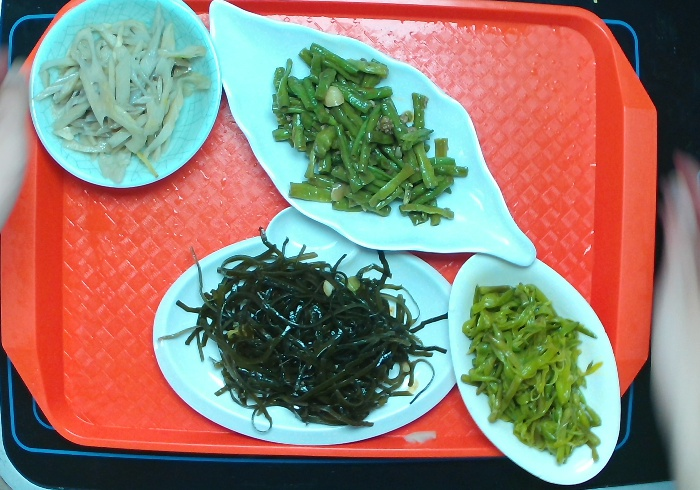RJxy-Bai_Se_Tuo_Yuan: (447, 251, 623, 487)
RJxy-Shu_Ye_Pan: (207, 1, 538, 269)
RJxy-Xiao_Jiao_Yuan_Wan: (26, 1, 223, 189)
RJxy-Zhan_Liao_Pan: (152, 204, 466, 446)
